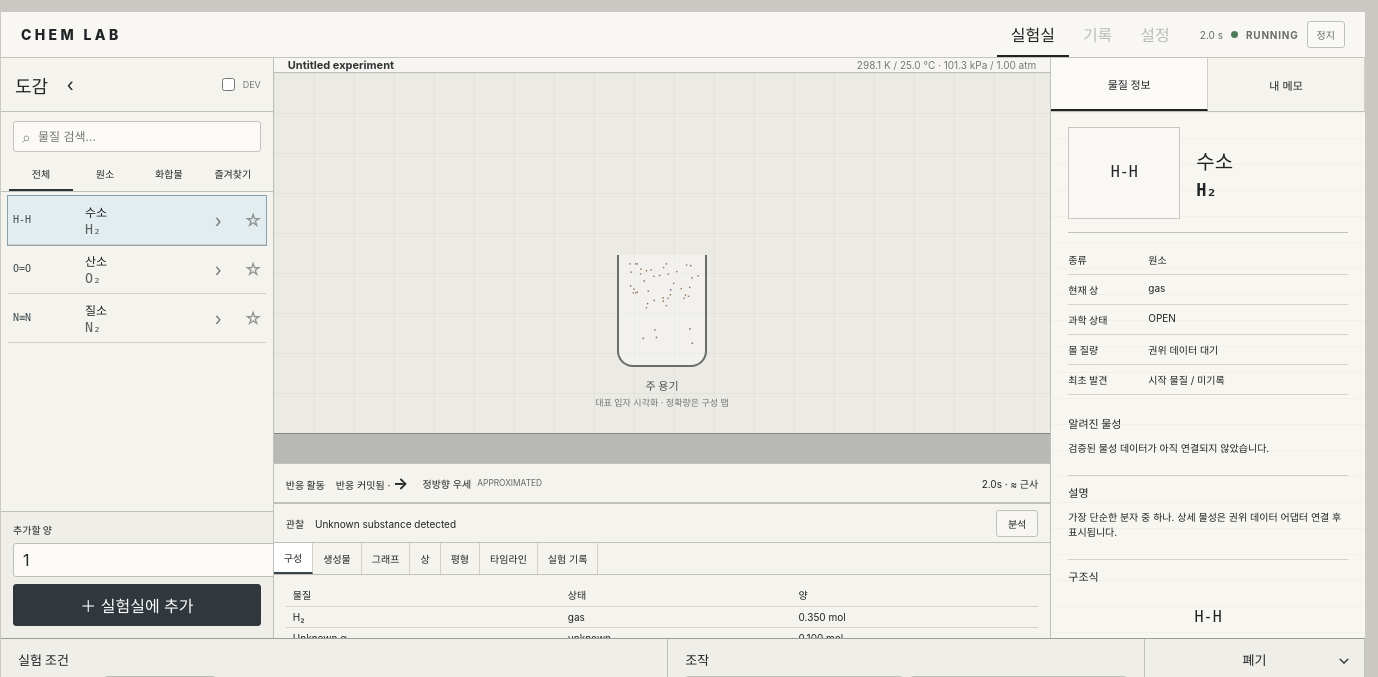
Test case: LaboratoryWorkspace workbench refinement › reprojects opaque unknown only after provider discovery confirmation
Click the button "분석" at (1017, 523), box [996, 510, 1038, 536]
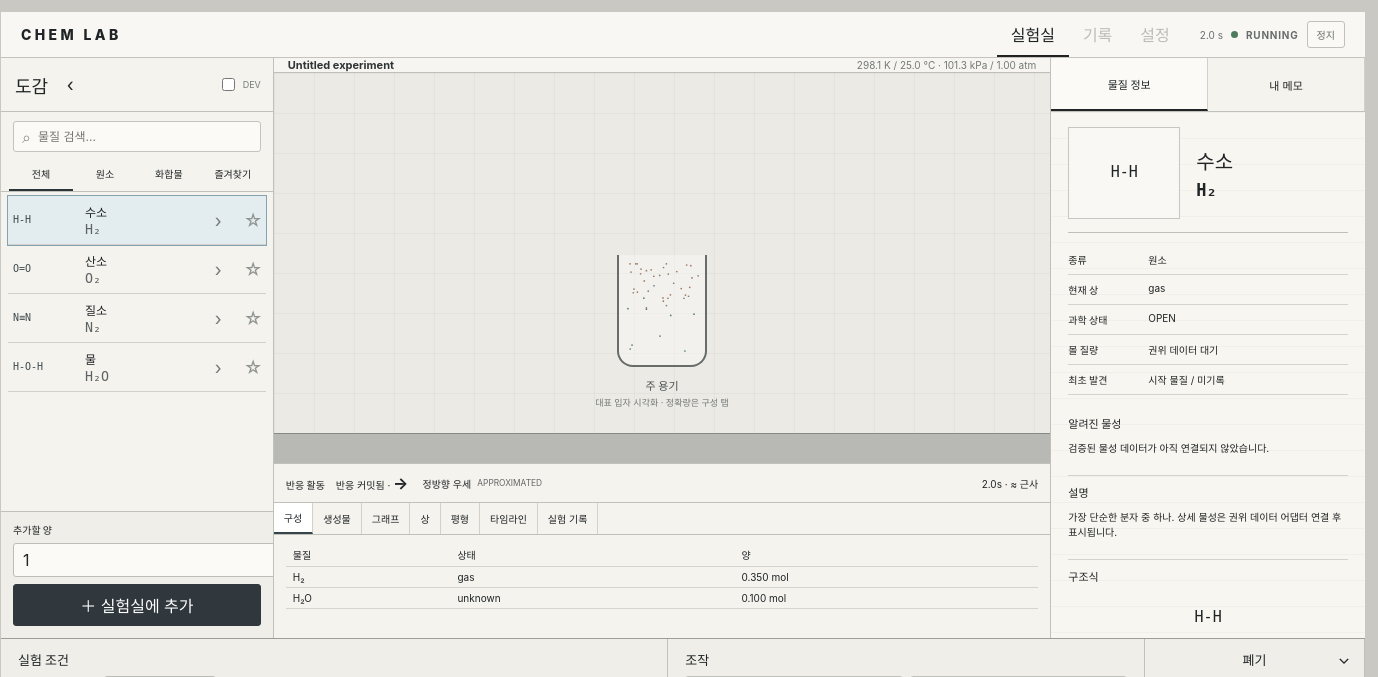
Result: the text "Unknown α" is gone
Click the button "타임라인" at (509, 518), box [480, 503, 538, 534]
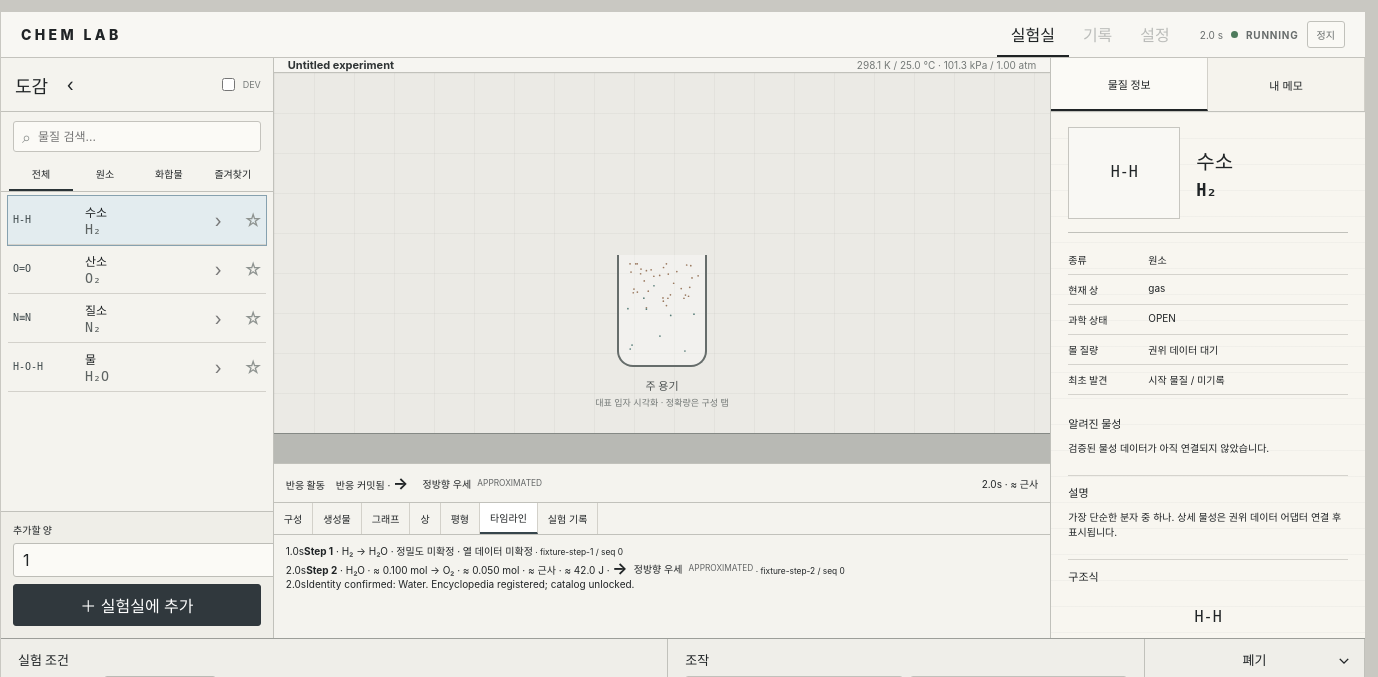
Result: the element named "반응 단계 1" shows "H₂ → H₂O" at [286, 545, 623, 557]
